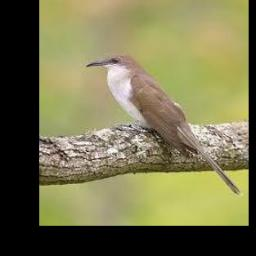Cuckoo: (86, 52, 243, 196)
